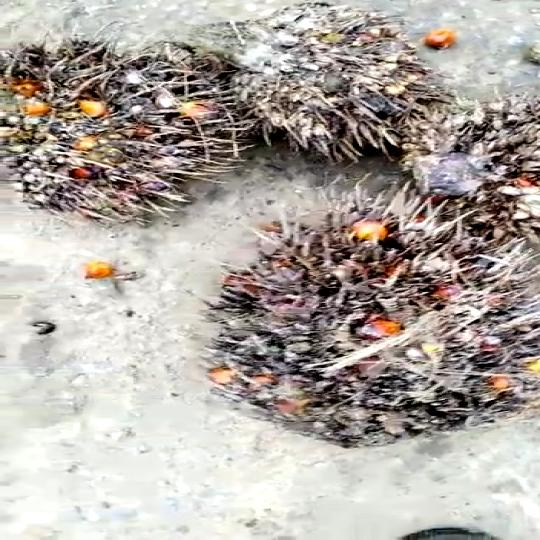terlalu masak: (217, 223, 540, 438), (0, 49, 244, 204), (208, 15, 428, 152)
